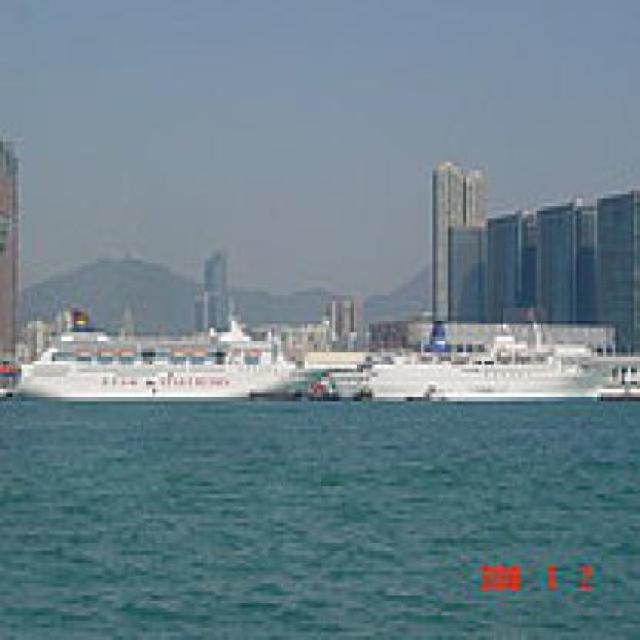cruise: (11, 301, 334, 423), (336, 313, 629, 427)
